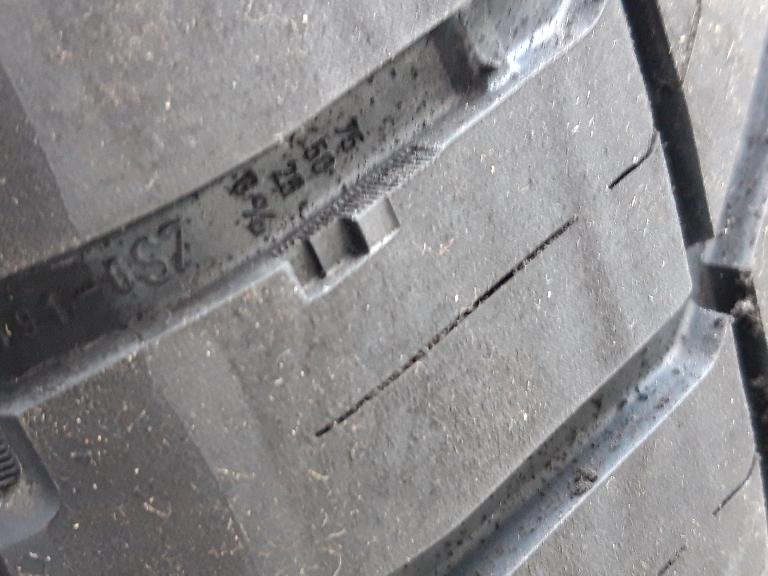temoin:50: (261, 181, 407, 310)
